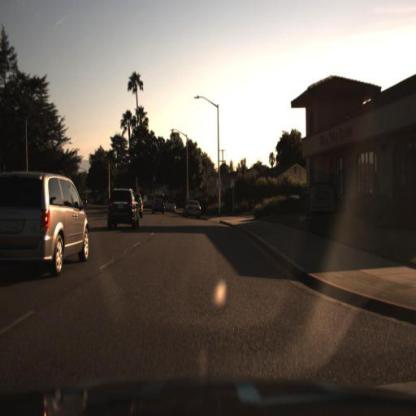car: (1, 162, 91, 288), (105, 181, 142, 235), (182, 195, 207, 224), (150, 193, 166, 218), (165, 196, 179, 216)
